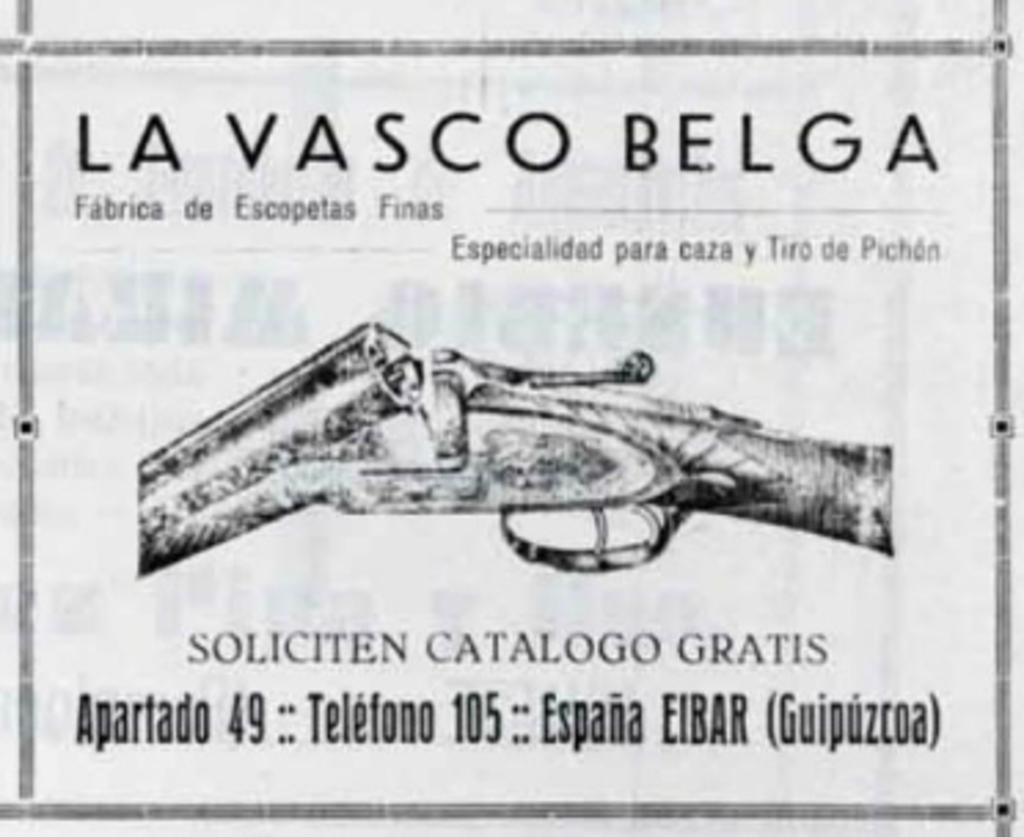Shotgun: (135, 317, 895, 575)
